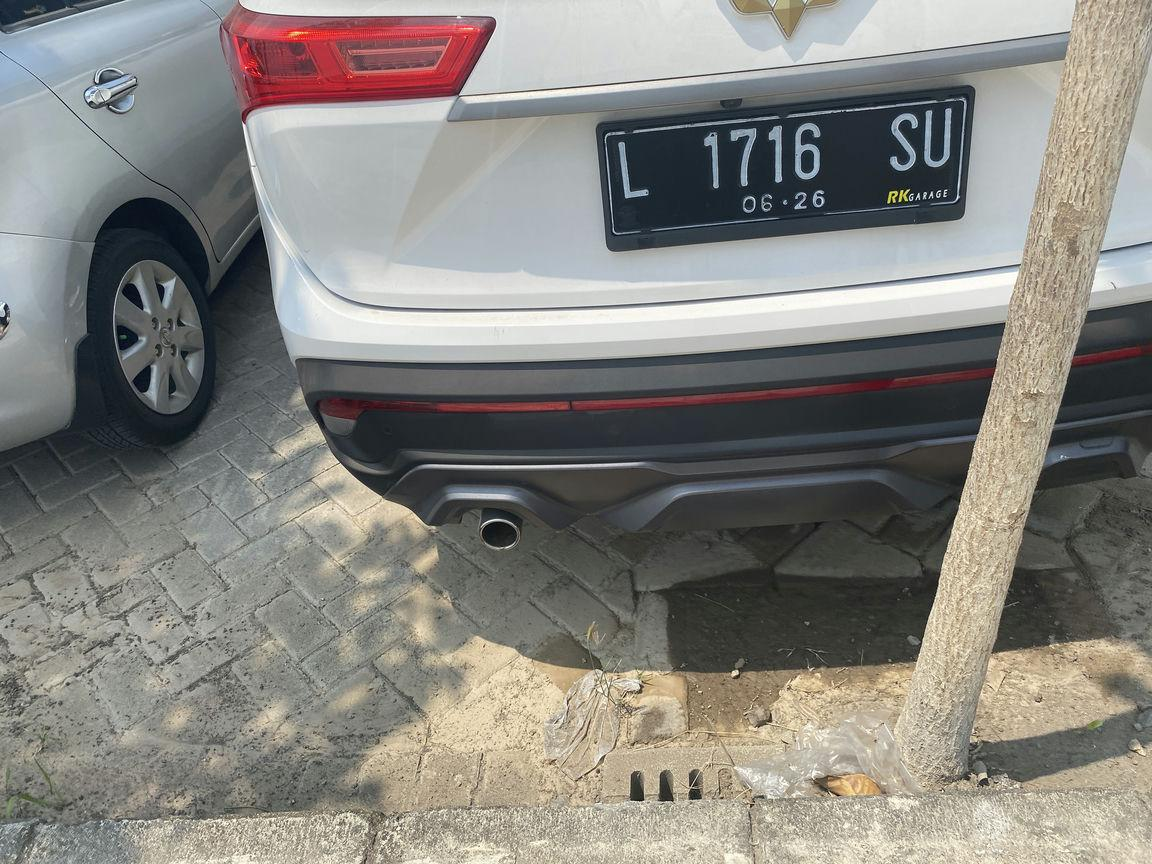plat: (602, 94, 968, 234)
